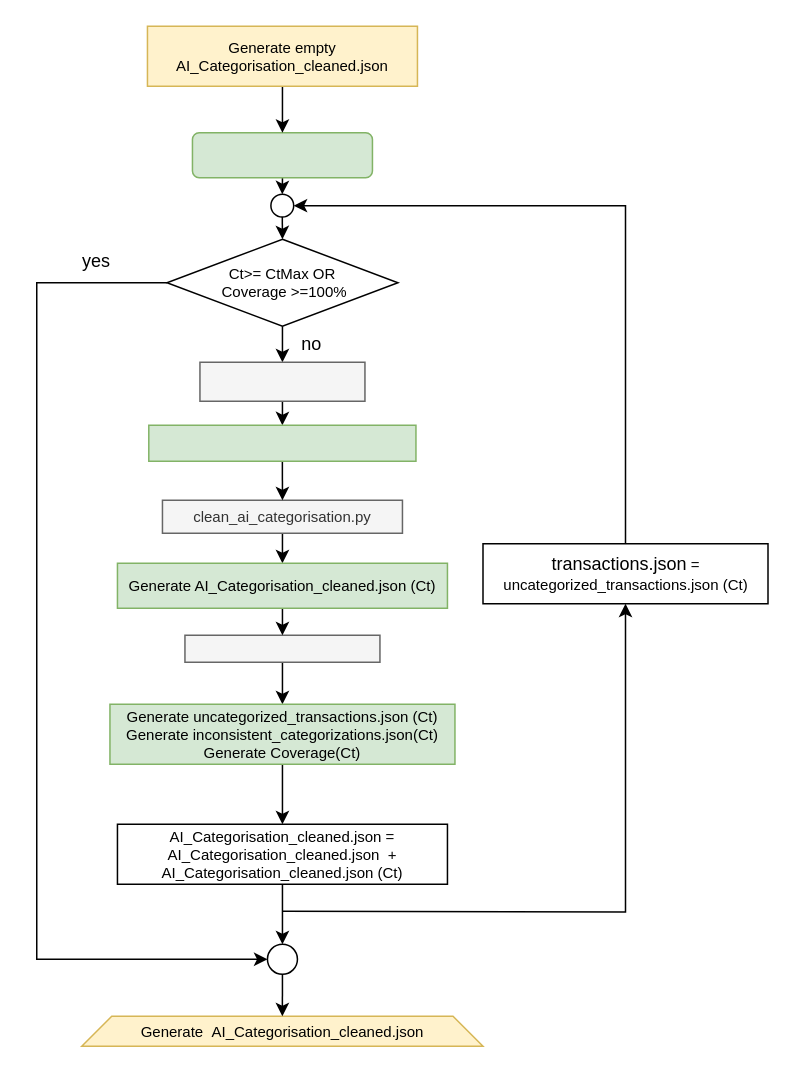
The diagram is 795 pixels wide and 1073 high, and some of its shapes have lost their labels. Each missing label, with the centre of its shape:
"gen_cat_eval.py" goes at [281,648].
"GenCat.py" goes at [281,381].
"Generate AI_Categorisation.json (Ct)" goes at [281,442].
"transactions.json" goes at [281,154].
